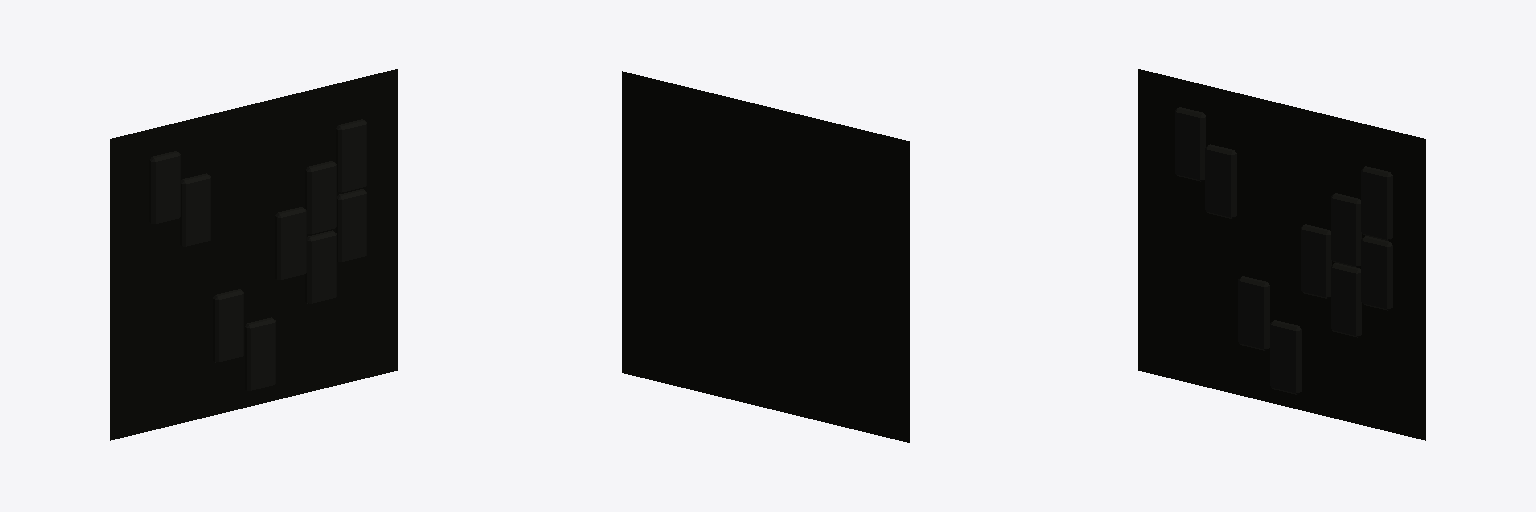
File: RoadTile001.obj
3 views of the same model, side by side, from view 1: azimuth 30°, elevation 25°; view 2: azimuth 150°, elevation 25°; view 3: azimuth 330°, elevation 25° (orthographic).
Visible parts, largest first — view 1: Plane001, Brick005, Brick004, Brick001, Brick007, Brick008, Brick003, Brick, Brick006, Brick002; view 2: Plane001; view 3: Plane001, Brick, Brick007, Brick008, Brick002, Brick006, Brick005, Brick003, Brick001, Brick004.
Part boxes in pixels (bbox=[...]): Plane001: bbox=[110, 69, 397, 440]; Brick005: bbox=[149, 151, 180, 225]; Brick004: bbox=[275, 207, 306, 281]; Brick001: bbox=[305, 161, 336, 235]; Brick007: bbox=[213, 289, 243, 363]; Brick008: bbox=[245, 317, 275, 391]; Brick003: bbox=[305, 230, 336, 304]; Brick: bbox=[336, 119, 366, 193]; Brick006: bbox=[180, 173, 210, 247]; Brick002: bbox=[336, 189, 366, 263]; Plane001: bbox=[622, 71, 909, 442]; Plane001: bbox=[1138, 69, 1425, 440]; Brick: bbox=[1361, 166, 1392, 240]; Brick007: bbox=[1238, 276, 1269, 350]; Brick008: bbox=[1270, 320, 1301, 394]; Brick002: bbox=[1361, 236, 1392, 310]; Brick006: bbox=[1205, 144, 1236, 218]; Brick005: bbox=[1175, 107, 1205, 181]; Brick003: bbox=[1331, 263, 1361, 337]; Brick001: bbox=[1331, 193, 1361, 267]; Brick004: bbox=[1301, 224, 1331, 298].
Size of the model in its own units: 32 by 32 by 0.6729.